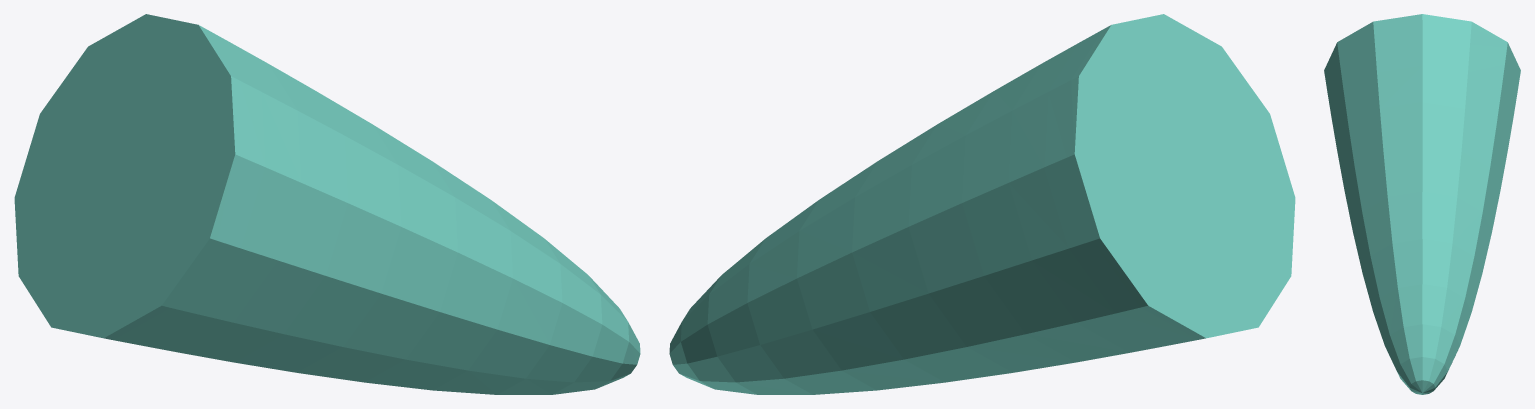
Rendered from tinker.obj.
3 views of the same model, side by side, from view 1: azimuth 30°, elevation 25°; view 2: azimuth 150°, elevation 25°; view 3: azimuth 270°, elevation 25° (orthographic). The views are drawn at different scales.
Parts seen in each view (by area): view 1: obj_0; view 2: obj_0; view 3: obj_0.
Boxes of the visible parts, x1,y1,x2,y2 form: obj_0: [14, 14, 640, 394]; obj_0: [669, 14, 1295, 394]; obj_0: [1324, 14, 1520, 394].
Bounding box in the file's own units: 5.95 × 4.43 × 3.
